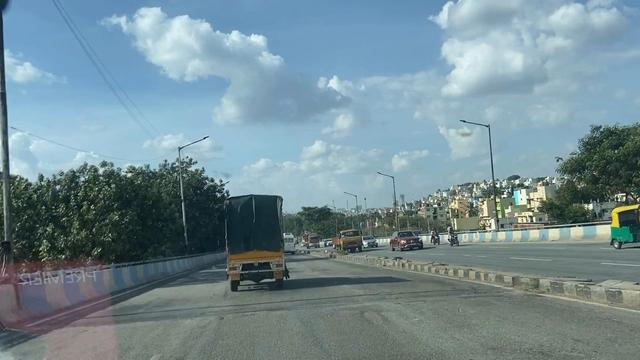HMV: (225, 194, 294, 292)
RoadDamages: (117, 303, 276, 355), (325, 285, 426, 360), (440, 290, 525, 358)
